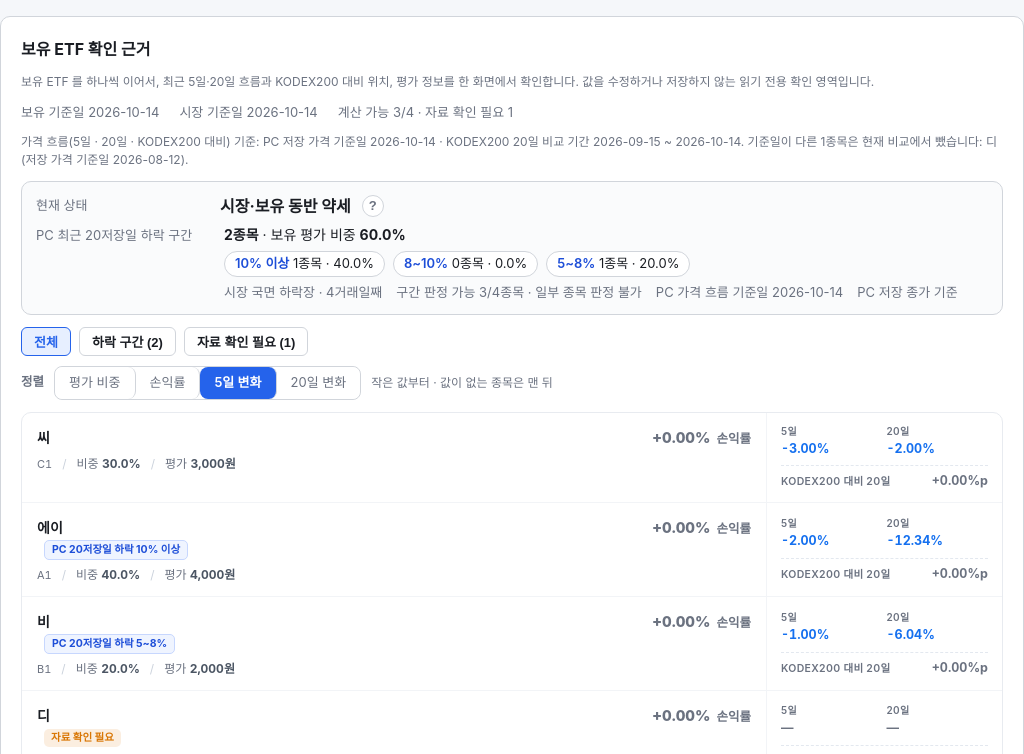
Test: 확인 근거 — PC 최근 20저장일 하락 구간 (POC5-13) › 요약(POC5-15) — 현재 상태 + ? / 종목 수 · 비중 / 구간별 / 작은 보조 묶음 · 긴 안내 문단은 ? 로
Expected: the element with test id "hre-risk-state" reads "현재 상태 시장·보유 동반 약세 ?", [36,186,393,226]
Expected: the element with test id "hre-risk-total" reads "2종목 · 보유 평가 비중 60.0%", [224,224,406,244]
Click the button named "현재 상태 도움말": (373, 206) [353,186,393,226]
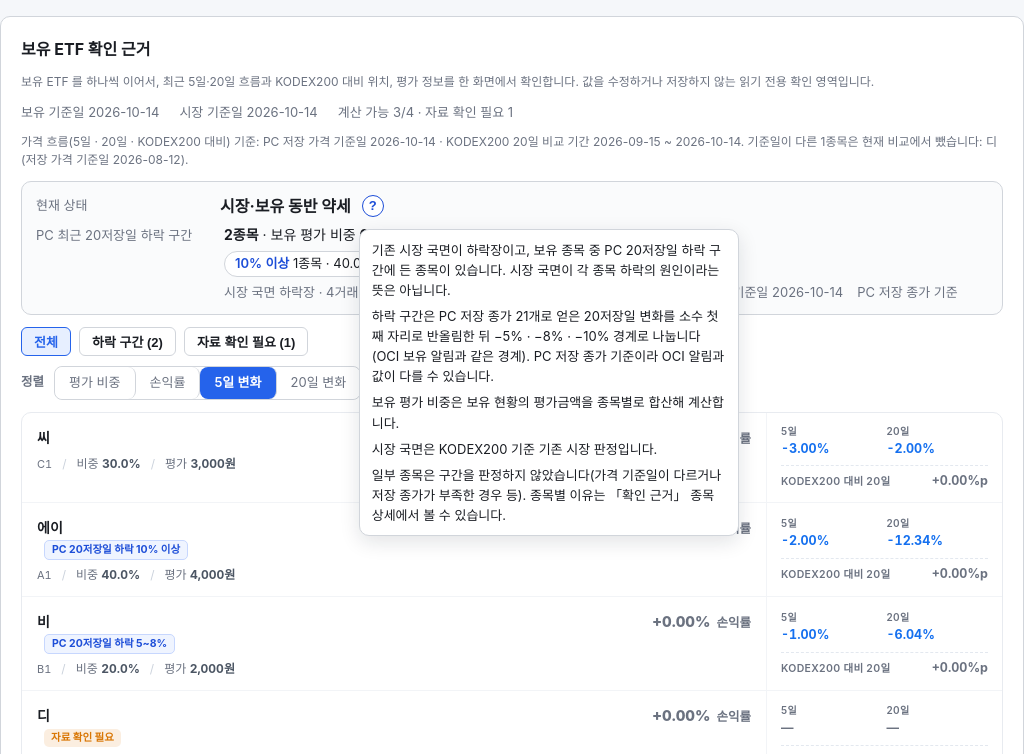
Now the dialog named "현재 상태 도움말" shows "시장 국면이 각 종목 하락의 원인이라는 뜻은 아닙니다.", box [372,242,721,298]
Press the mouse on the element with test id "hre-risk-total": (315, 234) [224,224,406,244]
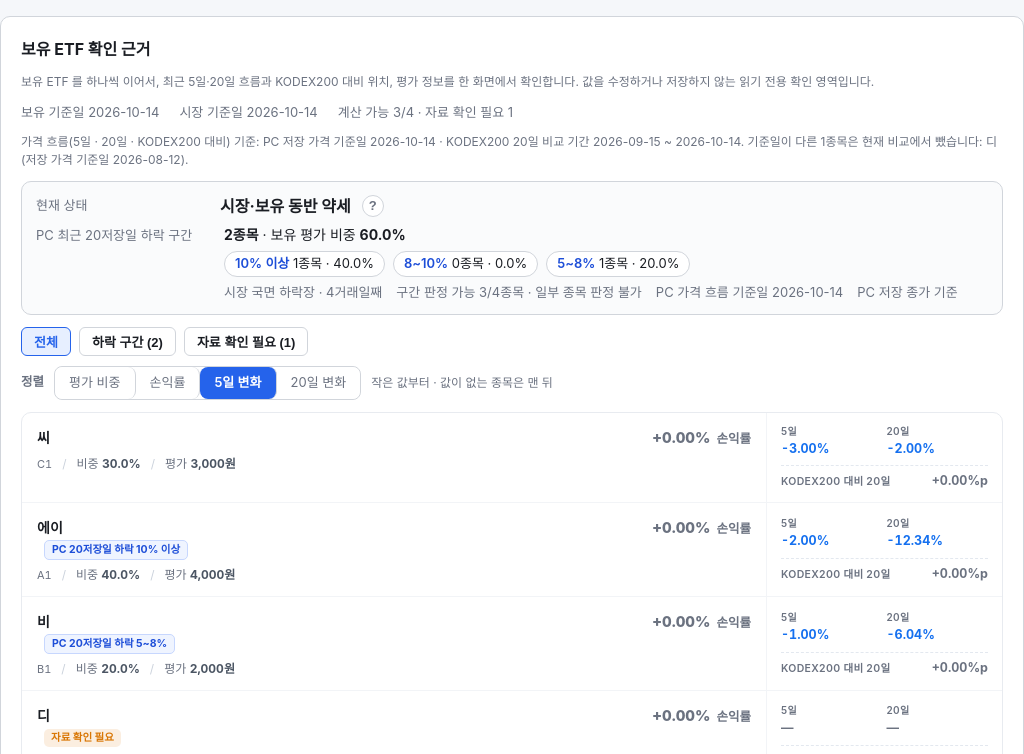
Now the dialog is gone
